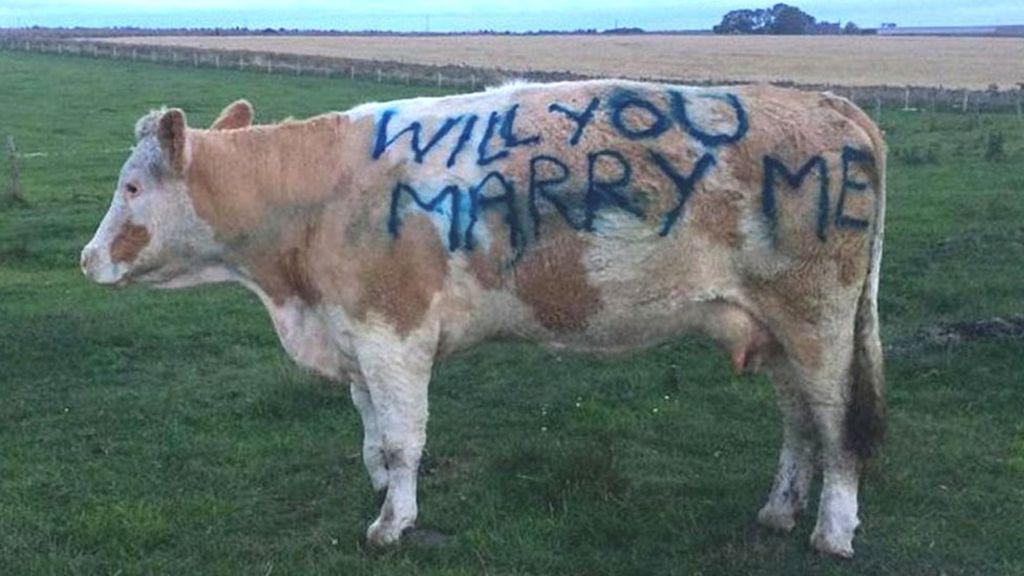cow: (81, 83, 885, 554)
